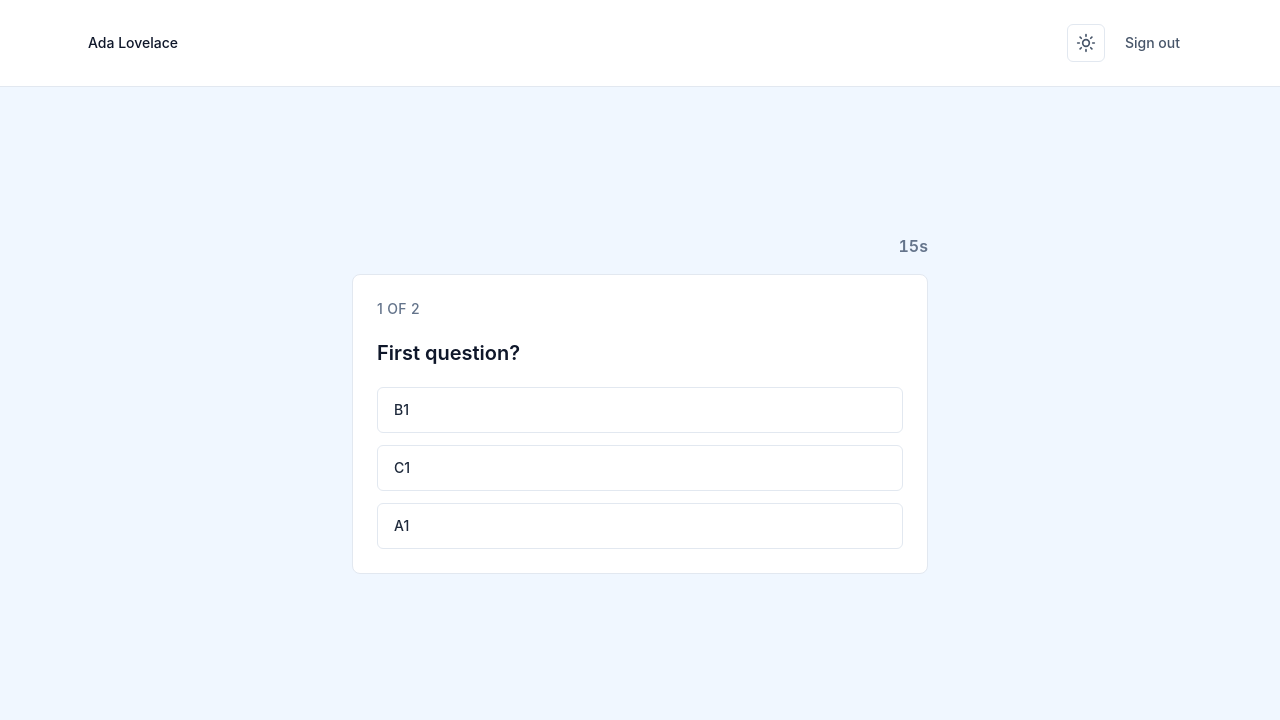
Scenario: QuizPlay › should_submit_seed_answers_and_elapsedMs_when_last_question_answered
This screenshot has width=1280, height=720.
Click the button "B1" at (402, 409), box [377,386,903,432]
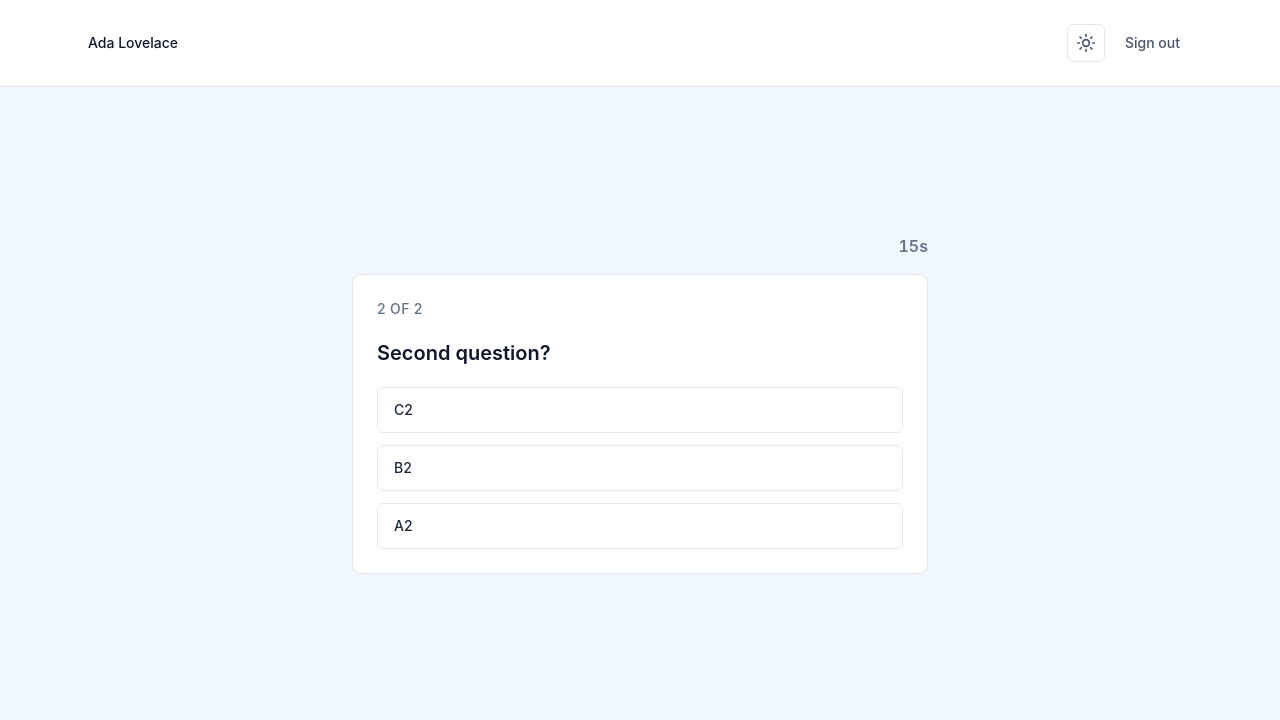
Click the button "C2" at (403, 409), box [377,386,903,432]
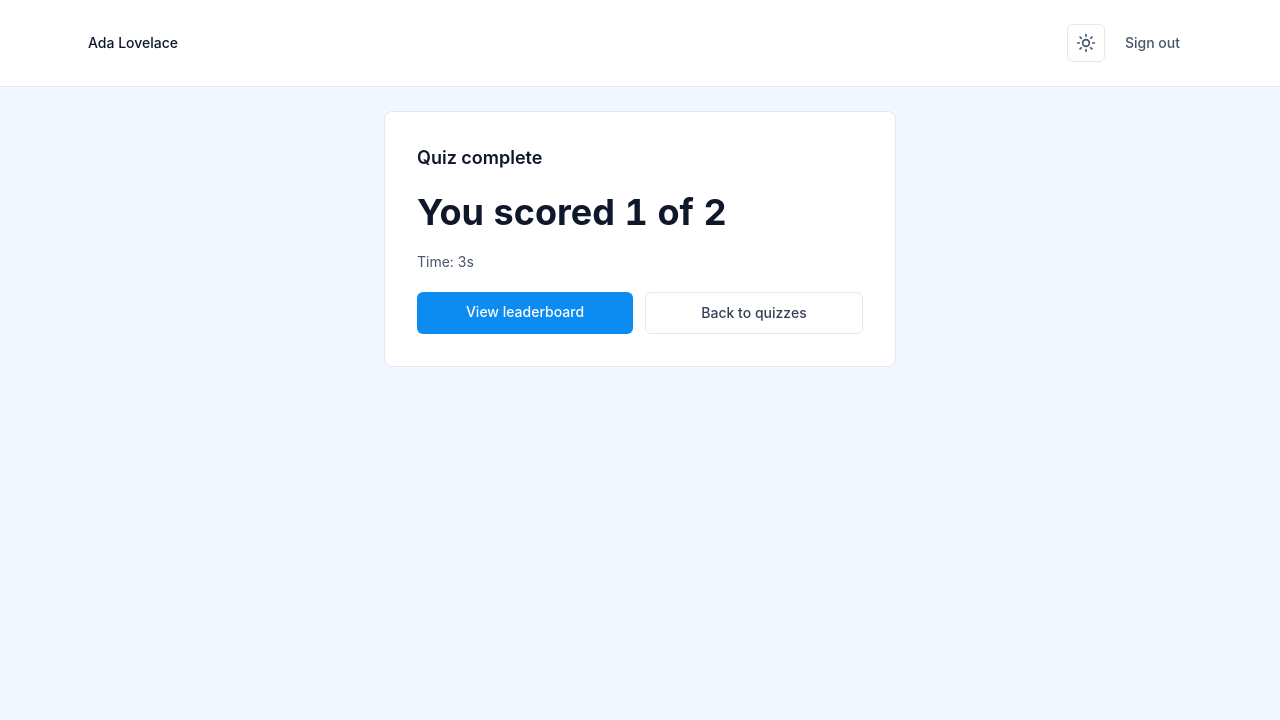
Check: the text "You scored 1 of 2" is shown, box [417,190,727,234]
